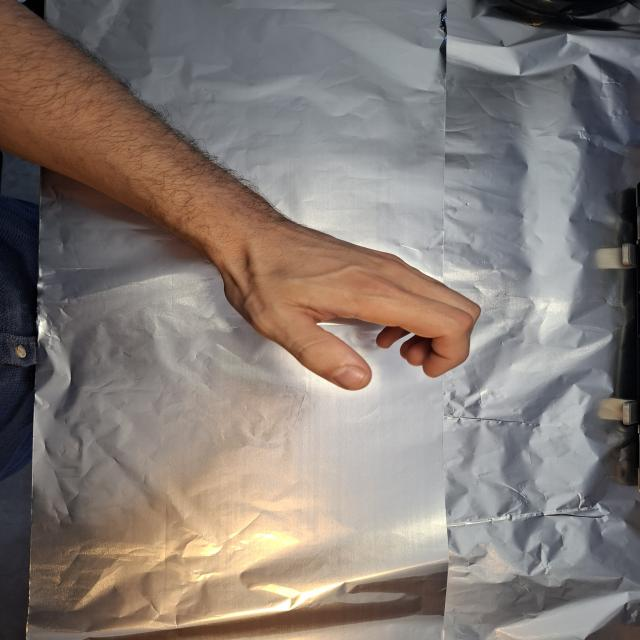glove_off: (193, 200, 485, 392)
